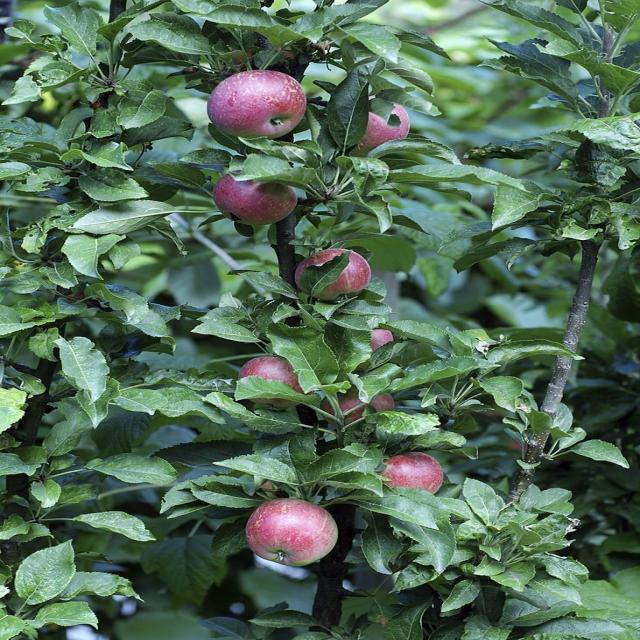Red Apple: (213, 68, 303, 129), (255, 500, 330, 552), (228, 173, 296, 218), (307, 247, 371, 287), (364, 105, 415, 151), (383, 450, 441, 489), (251, 357, 298, 390), (332, 392, 383, 421), (367, 329, 392, 354)
